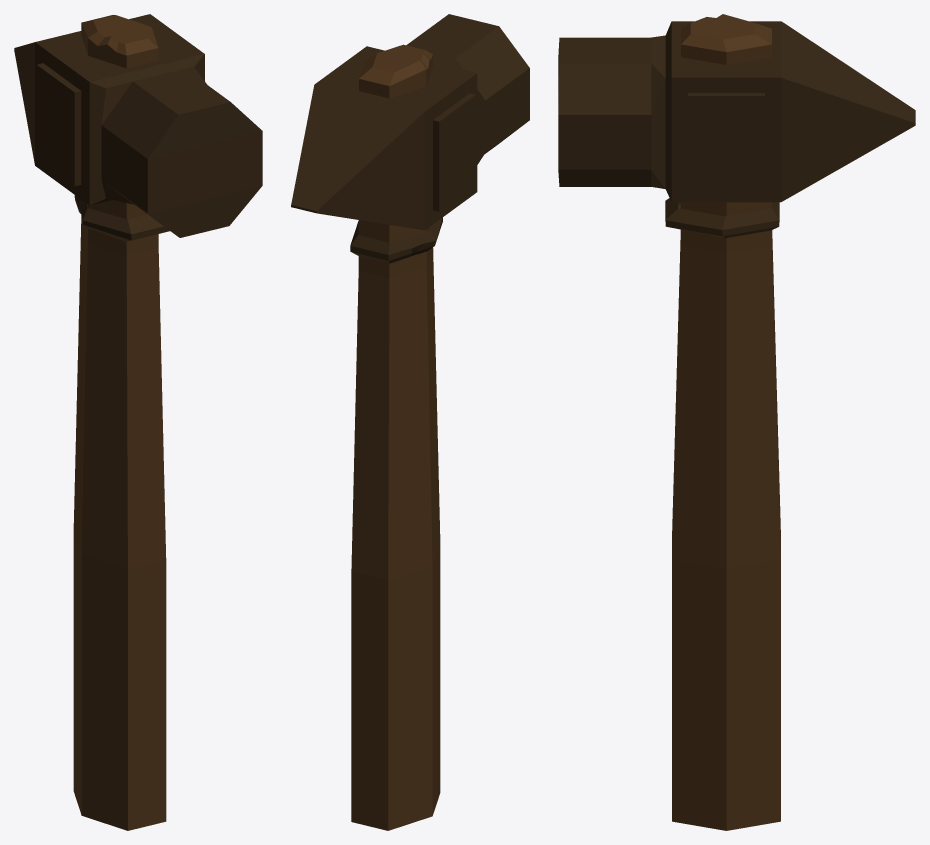
File: hammer.fbx
3 renders of one model, left to right at view 1: azimuth 30°, elevation 25°; view 2: azimuth 150°, elevation 25°; view 3: azimuth 270°, elevation 25°, orthographic. The views are drawn at different scales.
Parts seen in each view (by area): view 1: hammer; view 2: hammer; view 3: hammer.
Boxes of the visible parts, left/top/right/bottom form: hammer: left=14, top=14, right=262, bottom=830; hammer: left=291, top=14, right=529, bottom=830; hammer: left=558, top=14, right=915, bottom=830.
Bounding box in the file's own units: 11.59 × 67.43 × 27.77.
